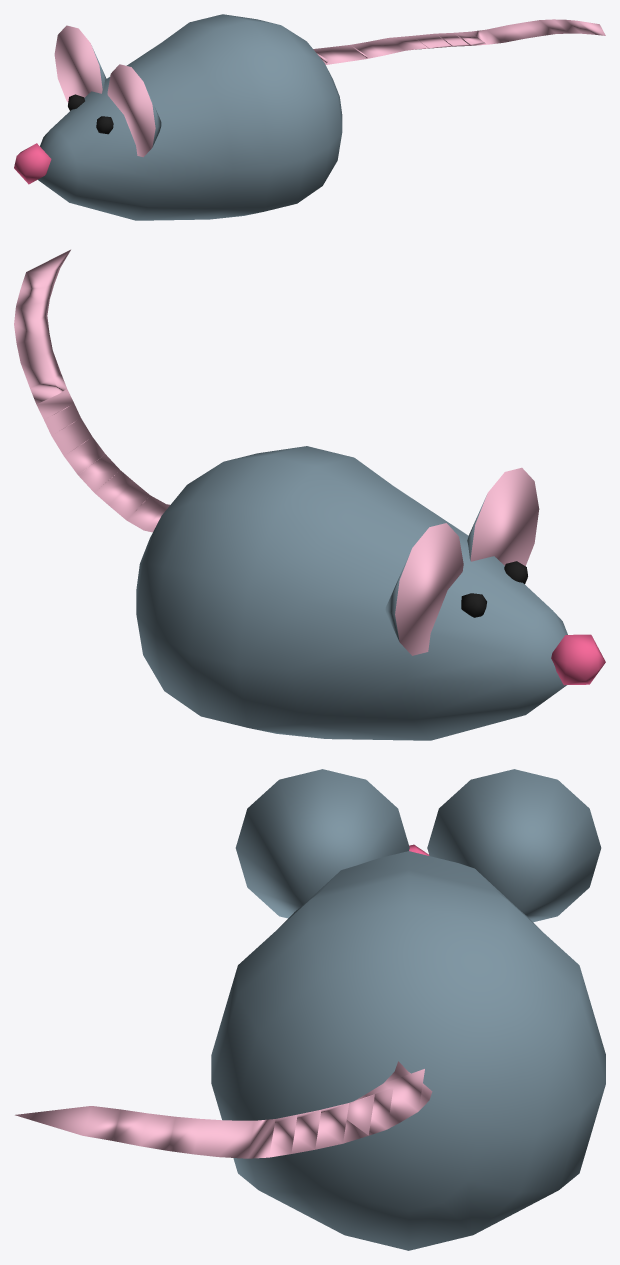
Rendered from mouse_smooth.glb.
3 views of the same model, one above another, from view 1: azimuth 30°, elevation 25°; view 2: azimuth 150°, elevation 25°; view 3: azimuth 270°, elevation 25° (orthographic). The views are drawn at different scales.
Parts seen in each view (by area): view 1: group1226118074, group366457425, group1244576720, group1190368398, group1930673237; view 2: group1226118074, group366457425, group1190368398, group1244576720, group1930673237; view 3: group1226118074, group1190368398, group1244576720, group366457425.
Boxes of the visible parts, left/top/right/bottom form: group1226118074: left=38, top=14, right=342, bottom=220; group366457425: left=313, top=19, right=605, bottom=64; group1244576720: left=107, top=64, right=161, bottom=157; group1190368398: left=54, top=25, right=106, bottom=102; group1930673237: left=14, top=143, right=51, bottom=184; group1226118074: left=136, top=446, right=567, bottom=740; group366457425: left=14, top=249, right=169, bottom=532; group1190368398: left=385, top=523, right=463, bottom=655; group1244576720: left=467, top=467, right=539, bottom=565; group1930673237: left=551, top=634, right=605, bottom=685; group1226118074: left=211, top=851, right=605, bottom=1250; group1190368398: left=427, top=769, right=601, bottom=922; group1244576720: left=235, top=769, right=409, bottom=918; group366457425: left=15, top=1061, right=432, bottom=1158.
Bounding box in the file's own units: 0.592 × 0.1982 × 0.3399.
